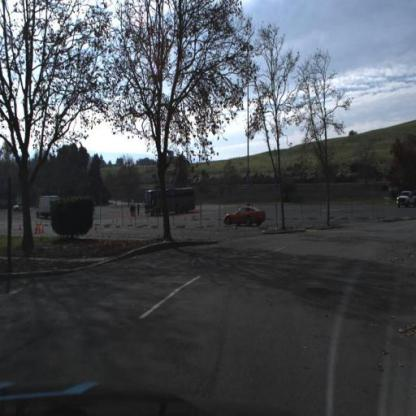car: (224, 206, 269, 229), (397, 190, 416, 212)
truck: (144, 183, 199, 220)
